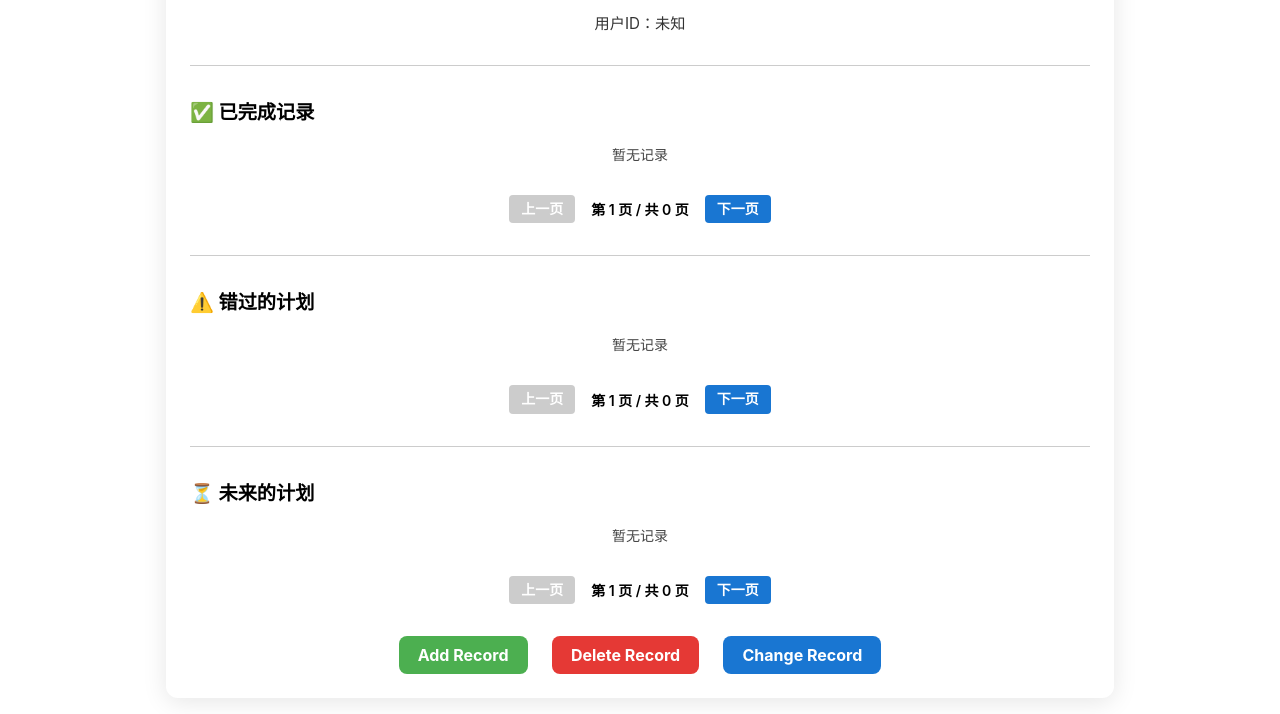
Test case: PlanList.vue › 点击 Add Record 应显示弹窗
(page scrolled)
What coordinates should you click on to do the following:
click the button "Add Record"
I would click on:
 (463, 655)
Its box is [398,636,528,674].
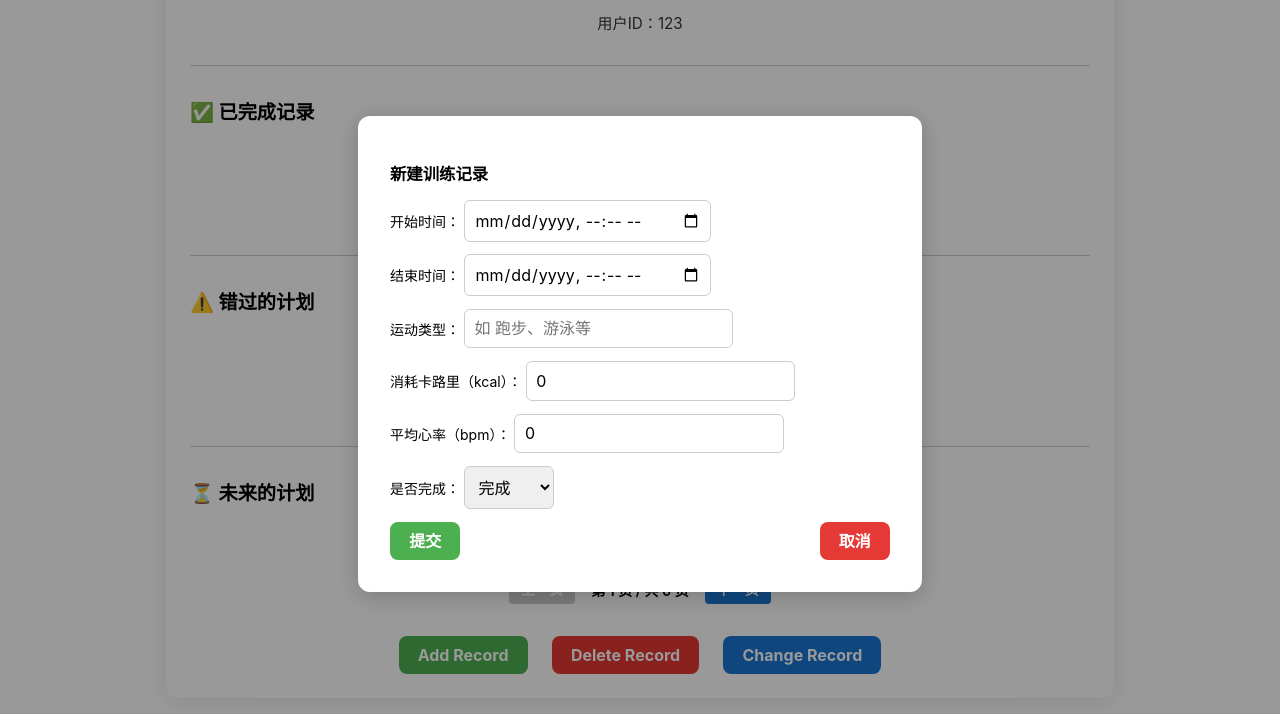
Check: the heading "新建训练记录" is shown, box [390,164,488,184]
